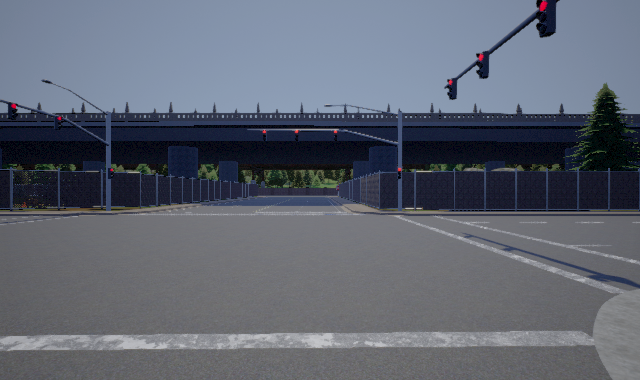traffic_light: (536, 1, 556, 38), (476, 51, 489, 79), (447, 78, 457, 100), (8, 102, 18, 120), (54, 116, 63, 130), (108, 168, 114, 179), (295, 130, 299, 142), (263, 130, 267, 142), (397, 168, 401, 179), (334, 130, 337, 142)
